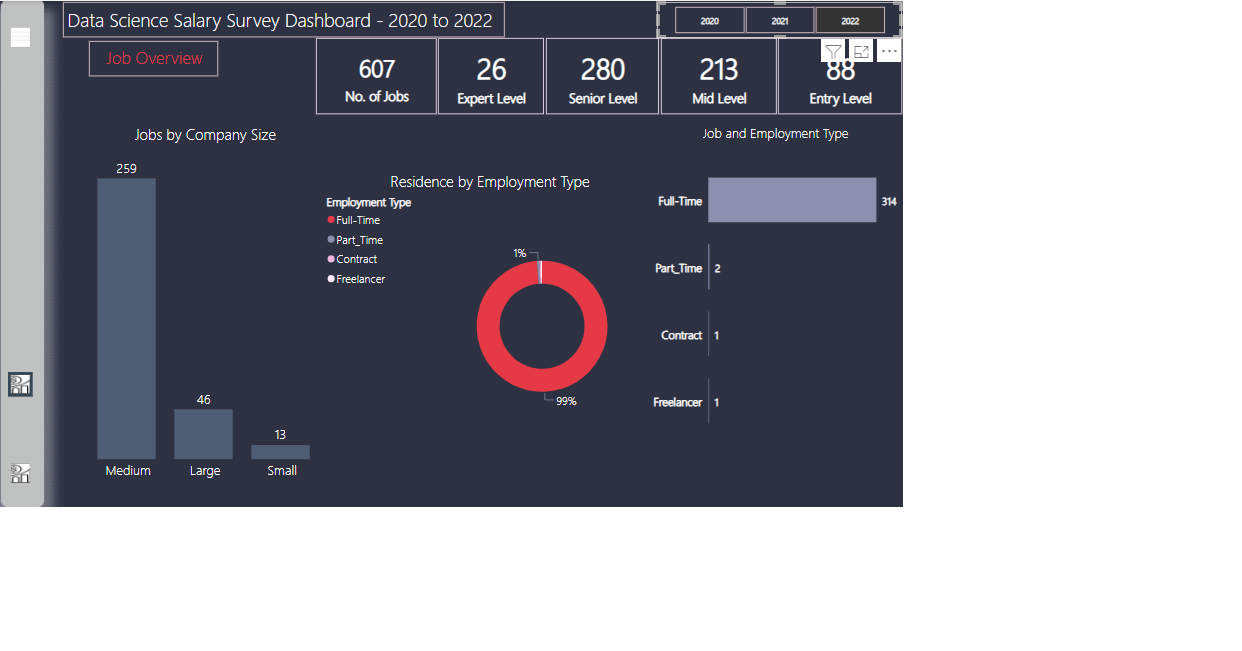

This screenshot's page, from the dashboard's own definition file:
{"tool":"powerbi","page":{"name":"Job Overview","canvas":[1280,720],"ordinal":0},"visuals":[{"type":"card","fields":{"Values":["Sum(Expert_Level_Cat.No_Jobs_by_count)"]},"box":[622.8,53,150.2,107.7],"z":0,"group":"g1"},{"type":"slicer","fields":{"Values":["ds_salaries.work_year.Variation.Date Hierarchy.Year"]},"box":[933.1,1.7,346.9,51.3],"z":0},{"type":"card","fields":{"Values":["Sum(Senior_Level_Cat.No_Jobs_by_count)"]},"box":[775.4,53,160.2,107.7],"z":1000,"group":"g1"},{"type":"clusteredBarChart","title":"Job and Employment Type","fields":{"Category":["ds_salaries.employment_Type"],"Y":["CountNonNull(ds_salaries.job_title)"]},"box":[921.1,174.3,358.9,495.6],"z":1000},{"type":"card","fields":{"Values":["Categorised_job_experience_level.T_no_jobs"]},"box":[449.5,53,170.9,107.7],"z":2000,"group":"g1"},{"type":"clusteredColumnChart","title":"Jobs by Company Size","fields":{"Y":["CountNonNull(ds_salaries.employment_Type)"],"Category":["ds_salaries.company_size"]},"box":[90.6,174.3,403.3,514.4],"z":2000},{"type":"card","fields":{"Values":["Sum(Mid_Level_Cat.No_Jobs_by_count)"]},"box":[937.9,53,164.4,107.7],"z":3000,"group":"g1"},{"type":"pieChart","title":"Residence by Employment Type","fields":{"Category":["ds_salaries.employment_Type"],"Y":["CountNonNull(ds_salaries.employee_residence)"]},"box":[459.7,241,473.4,411.9],"z":3000},{"type":"card","fields":{"Values":["Sum(Entry_Level_Cat.No_Jobs_by_count)"]},"box":[1104.7,53,175.7,107.7],"z":4000,"group":"g1"},{"type":"textbox","box":[90.7,1.4,626.5,49.6],"z":4000},{"type":"textbox","box":[128.2,56.4,182.9,49.6],"z":5000},{"type":"actionButton","box":[12.8,34,35.4,35.4],"z":8000},{"type":"actionButton","box":[12.8,652,35.4,35.4],"z":9000},{"type":"actionButton","box":[12.8,525.8,35.4,35.4],"z":10000},{"type":"group","id":"g1","title":"Group 1","box":[449.5,53,830.5,107.7],"z":11000}]}

Visuals, with their boxes on the page's 1280x720 design canvas (x1, y1, x2, y2). These are canvas units, not pixel positions in the 1242x651 screenshot, which may show the page scaled, cropped or inside an application window:
card - Sum(Expert_Level_Cat.No_Jobs_by_count): left=623, top=53, right=773, bottom=161
slicer - ds_salaries.work_year.Variation.Date Hierarchy.Year: left=933, top=2, right=1280, bottom=53
card - Sum(Senior_Level_Cat.No_Jobs_by_count): left=775, top=53, right=936, bottom=161
"Job and Employment Type" clusteredBarChart: left=921, top=174, right=1280, bottom=670
card - Categorised_job_experience_level.T_no_jobs: left=450, top=53, right=620, bottom=161
"Jobs by Company Size" clusteredColumnChart: left=91, top=174, right=494, bottom=689
card - Sum(Mid_Level_Cat.No_Jobs_by_count): left=938, top=53, right=1102, bottom=161
"Residence by Employment Type" pieChart: left=460, top=241, right=933, bottom=653
card - Sum(Entry_Level_Cat.No_Jobs_by_count): left=1105, top=53, right=1280, bottom=161
textbox: left=91, top=1, right=717, bottom=51
textbox: left=128, top=56, right=311, bottom=106
actionButton: left=13, top=34, right=48, bottom=69
actionButton: left=13, top=652, right=48, bottom=687
actionButton: left=13, top=526, right=48, bottom=561
"Group 1" group: left=450, top=53, right=1280, bottom=161
